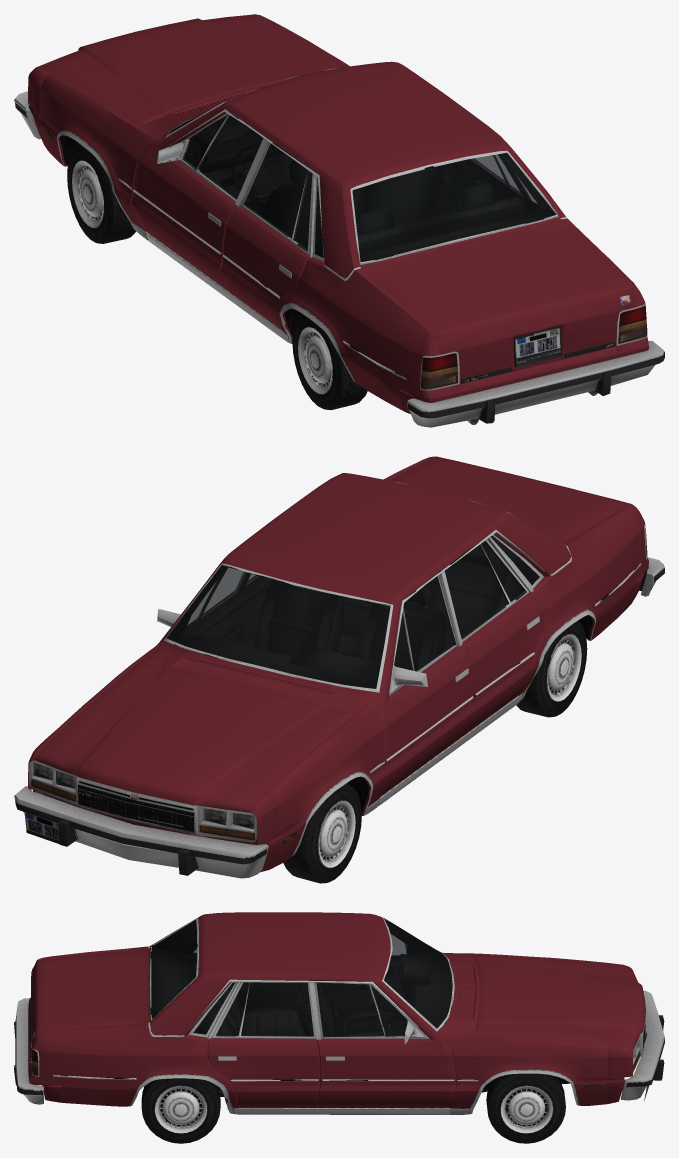
File: fairheaven_lt.glb
3 renders of one model, top to bottom at view 1: azimuth 30°, elevation 25°; view 2: azimuth 150°, elevation 25°; view 3: azimuth 270°, elevation 25°, orthographic. The views are drawn at different scales.
Parts seen in each view (by area): view 1: Body, Glass, Interior, Trim, WheelRL, WheelFL, LightsRear; view 2: Body, Trim, Glass, Interior, WheelFL, WheelRL, LightsFront; view 3: Body, Glass, Interior, Trim, WheelFR, WheelRR.
Part boxes in pixels (x1,y1,x2,y2): Body: (28,14,648,413); Glass: (168,110,555,261); Interior: (164,116,555,310); Trim: (14,68,664,427); WheelRL: (292,313,367,410); WheelFL: (67,143,135,243); LightsRear: (421,304,647,389); Body: (28,456,648,872); Trim: (14,481,664,878); Glass: (165,535,539,688); Interior: (167,535,539,780); WheelFL: (283,783,361,883); WheelRL: (516,620,587,717); LightsFront: (31,762,254,840); Body: (28,912,645,1114); Glass: (151,919,452,1036); Interior: (151,919,452,1036); Trim: (14,917,664,1114); WheelFR: (486,1073,565,1143); WheelRR: (141,1078,220,1143).
Bounding box in the file's own units: 6.21 × 4.59 × 17.01.
Materials: 6 (4 with a texture image).
